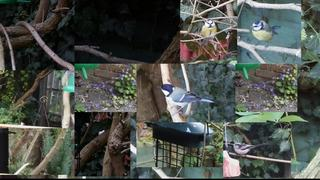blue tit: (250, 20, 281, 50), (200, 19, 217, 46)
great tit: (156, 84, 215, 117)
long tailed tit: (232, 142, 271, 158)
